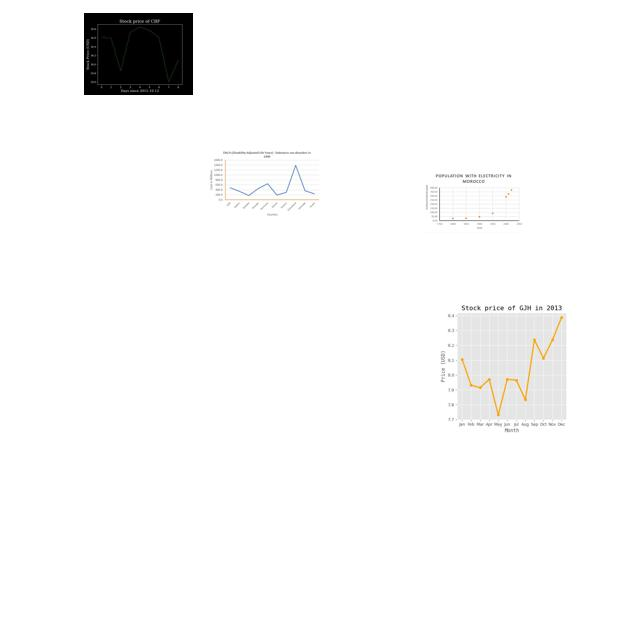Graph: (417, 296, 602, 435), (84, 13, 193, 95), (207, 147, 321, 218), (423, 171, 524, 233)
